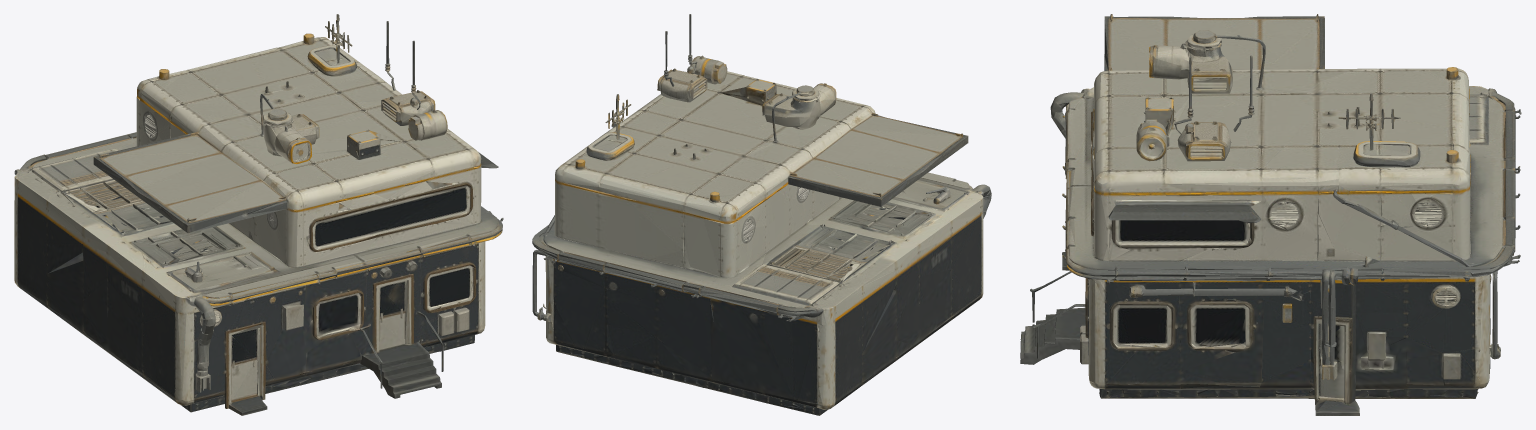
The model's file is web.glb.
3 renders of one model, left to right at view 1: azimuth 30°, elevation 25°; view 2: azimuth 150°, elevation 25°; view 3: azimuth 270°, elevation 25°, orthographic. The views are drawn at different scales.
Parts seen in each view (by area): view 1: output_unwrapped; view 2: output_unwrapped; view 3: output_unwrapped.
Part boxes in pixels (x1,y1,x2,y2): output_unwrapped: (14,14,503,415); output_unwrapped: (532,14,991,415); output_unwrapped: (1020,14,1521,415).
Bounding box in the file's own units: 1.71 × 1.39 × 1.9.
1 material, 1 textured.
